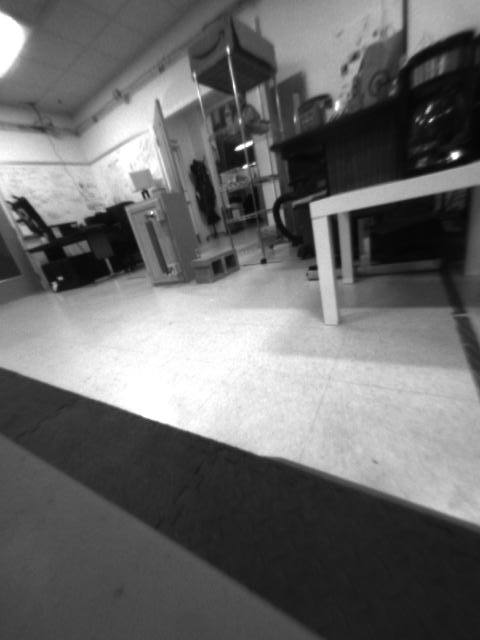coffee_pot: (395, 27, 471, 177)
